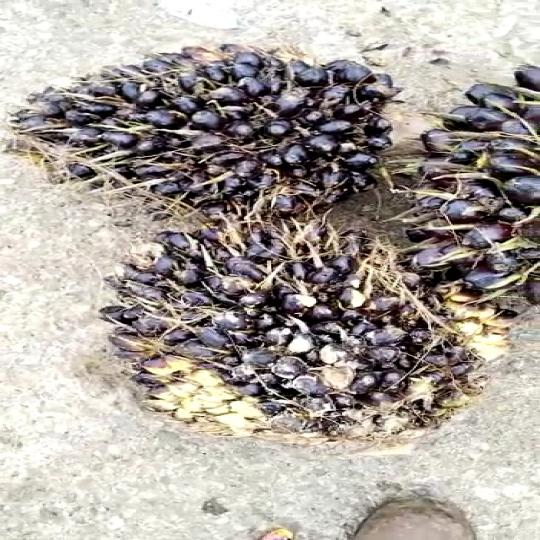mentah: (97, 224, 498, 465), (0, 39, 401, 240)
